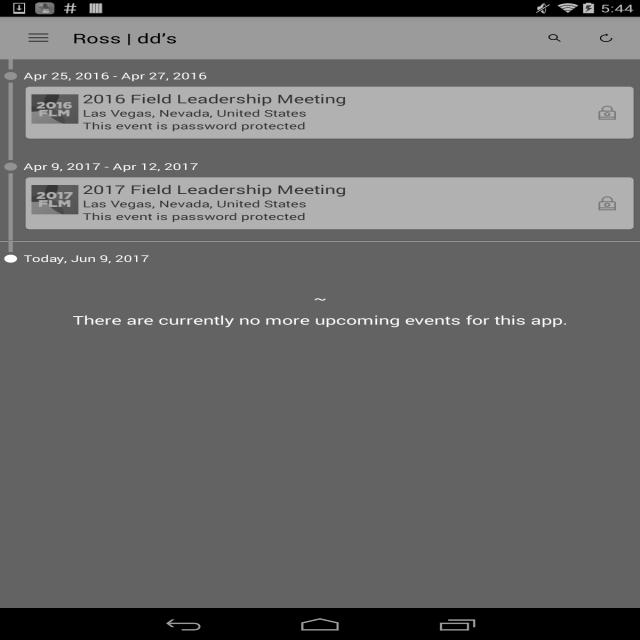ImageButton: (9, 19, 68, 57)
ImageView: (32, 185, 82, 217), (32, 95, 82, 126), (596, 106, 619, 120), (596, 197, 619, 210)
TextView: (9, 287, 632, 309), (9, 309, 632, 331), (83, 90, 592, 107), (83, 181, 592, 197), (23, 69, 640, 82), (23, 160, 640, 173), (23, 252, 640, 265), (83, 119, 592, 132), (83, 197, 592, 210), (83, 210, 592, 223), (83, 107, 592, 119), (73, 29, 177, 47), (580, 22, 632, 54), (529, 22, 580, 54), (0, 241, 640, 242), (0, 241, 640, 241)
